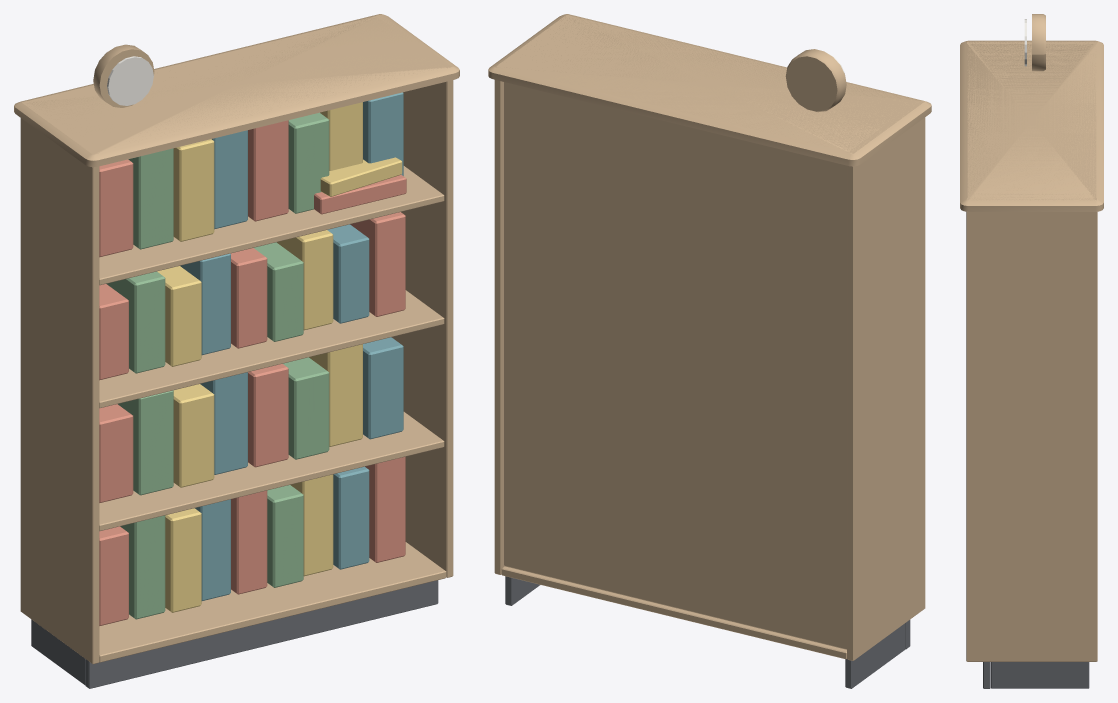
Rendered from care-home-and-day-room-bookcase-large-print-667ff595__35737.glb.
The picture shows the model from 3 angles, left to right: view 1: azimuth 30°, elevation 25°; view 2: azimuth 150°, elevation 25°; view 3: azimuth 270°, elevation 25°; orthographic projection. The views are drawn at different scales.
Parts seen in each view (by area): view 1: bookcase-large-print; view 2: bookcase-large-print; view 3: bookcase-large-print.
Boxes of the visible parts, x1,y1,x2,y2 form: bookcase-large-print: [14, 14, 459, 688]; bookcase-large-print: [488, 14, 931, 688]; bookcase-large-print: [960, 14, 1103, 688].
Size of the model in its own units: 0.9499 by 1.47 by 0.35.
